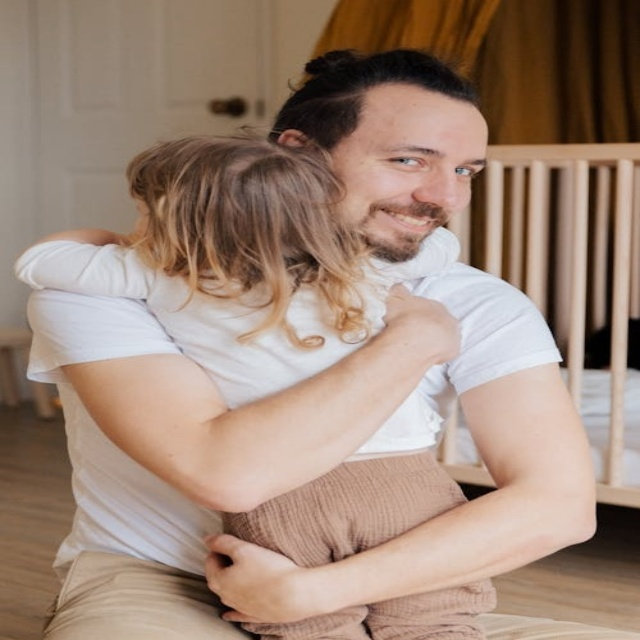Sin_gafas: (357, 134, 483, 189)
Sin_guantes: (201, 531, 314, 627), (384, 280, 465, 374)
Sin_mascara: (364, 199, 445, 255)
